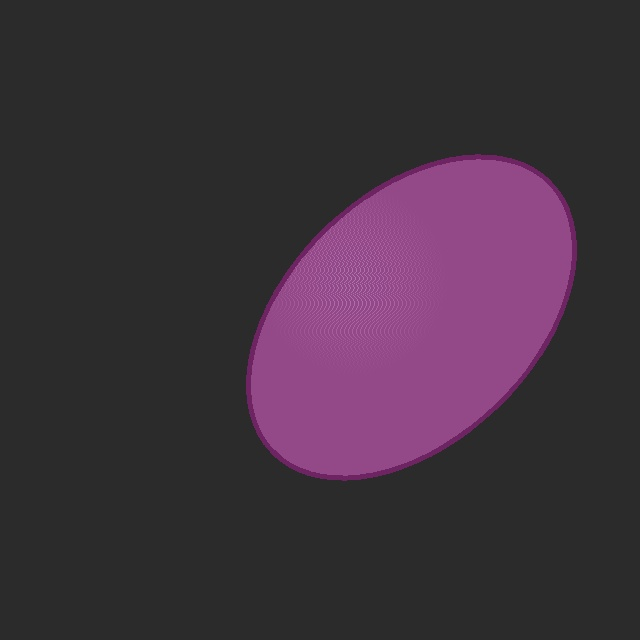lens: (248, 157, 574, 477)
